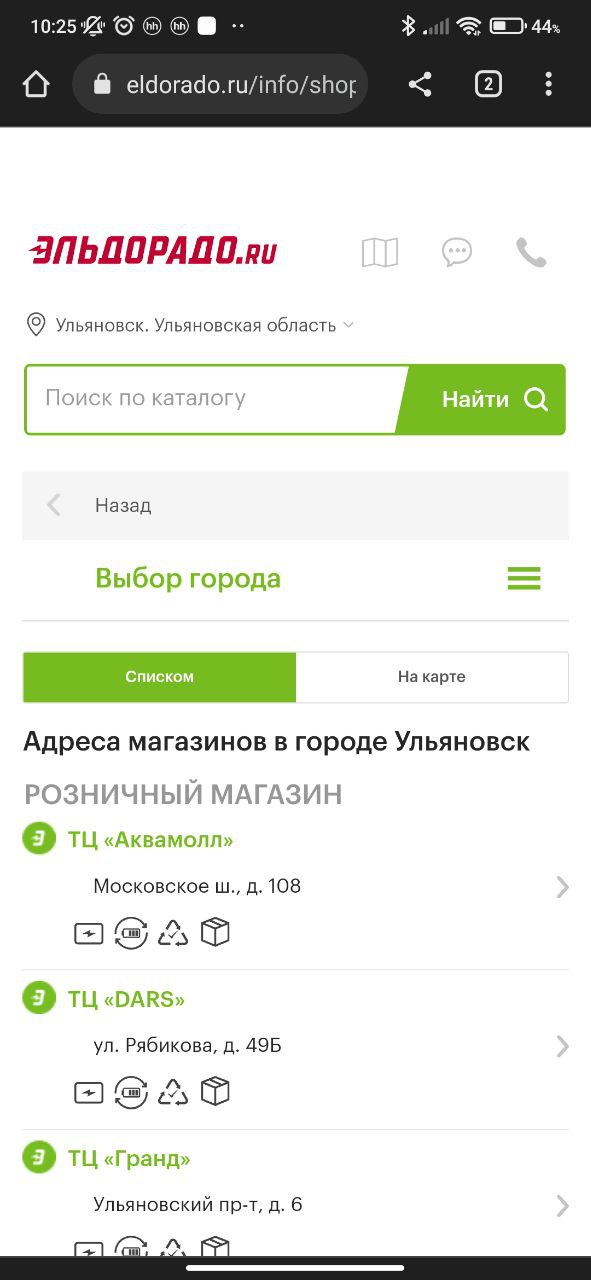burger_menu: (503, 561, 543, 596)
